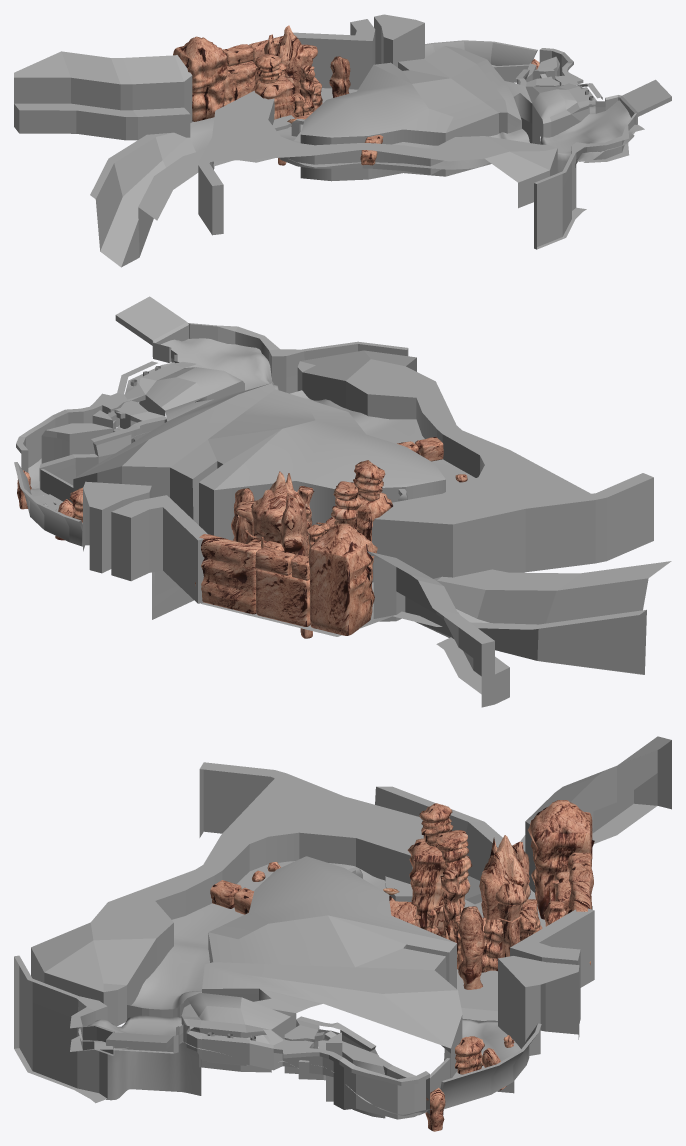
The model's file is env_level02_SlideVTest.fbx.
The picture shows the model from 3 angles, top to bottom: view 1: azimuth 30°, elevation 25°; view 2: azimuth 150°, elevation 25°; view 3: azimuth 270°, elevation 25°; orthographic projection. The views are drawn at different scales.
Parts seen in each view (by area): view 1: pCube126, pCube46, pCube62, pCube118, pCube76, pCube25, rockwall_a00, pCube125, pCube47, pCube102, pCube123, pCube64 (+10 smaller); view 2: pCube62, pCube126, pCube118, pCube46, pCube25, rockwall_a00, rockwall_a03, pCube76, pCube47, polySurface2, pCube125, rockwall_a04 (+13 smaller); view 3: pCube126, pCube62, pCube76, pCube46, pCube47, pCube123, pCube125, pCube118, rockwall_a00, pCube25, pCube102, rockwall_c03 (+16 smaller).
Boxes of the visible parts, x1,y1,x2,y2 form: pCube126: (300,45,605,181); pCube46: (14,51,192,140); pCube62: (198,90,557,235); pCube118: (90,88,357,267); pCube76: (534,113,636,249); pCube25: (293,19,375,89); rockwall_a00: (173,36,227,121); pCube125: (540,100,644,172); pCube47: (374,14,424,67); pCube102: (425,40,537,65); pCube123: (277,124,529,169); pCube64: (605,79,671,124); pCube62: (297,350,653,582); pCube126: (16,350,445,540); pCube118: (155,561,671,674); pCube46: (367,551,509,707); pCube25: (111,495,207,603); rockwall_a00: (308,523,377,635); rockwall_a03: (195,534,261,614); pCube76: (188,323,408,393); pCube47: (83,481,151,573); polySurface2: (39,400,166,488); pCube125: (161,338,278,390); rockwall_a04: (256,569,310,626); pCube126: (179,856,462,1119); pCube62: (31,762,423,1025); pCube76: (14,955,114,1103); pCube46: (520,736,671,892); pCube47: (498,956,579,1055); pCube123: (127,861,389,1019); pCube125: (78,1015,201,1100); pCube118: (375,786,592,1022); rockwall_a00: (528,800,594,919); pCube25: (510,908,594,1023); pCube102: (440,1023,541,1109); rockwall_c03: (407,838,446,936).
Size of the model in its own units: 60924 by 17406 by 50583.
